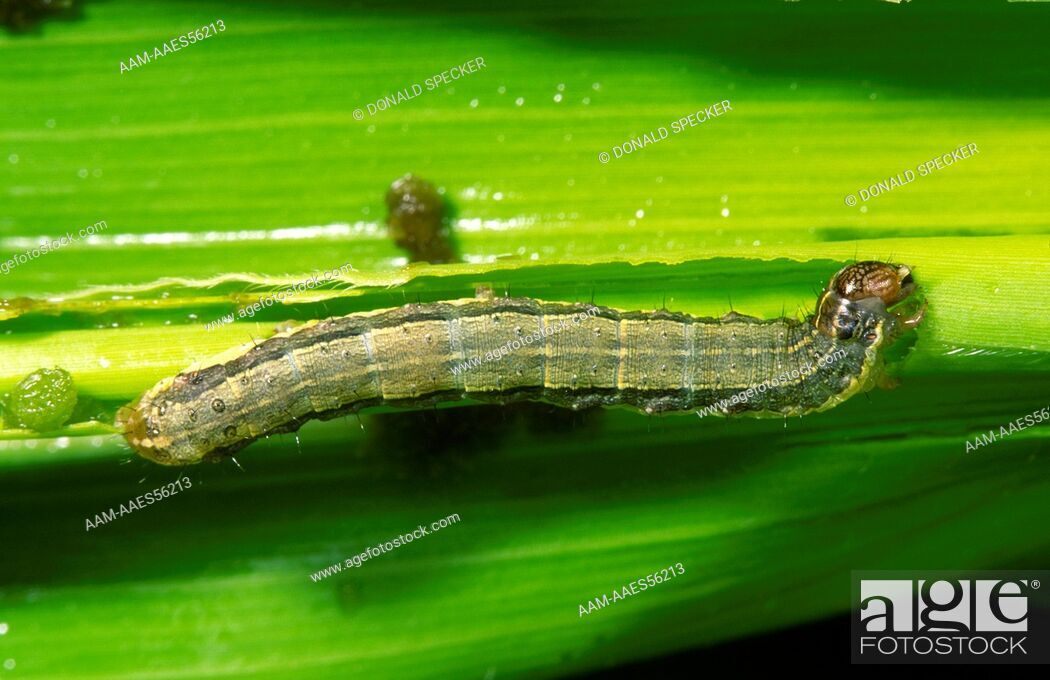Armyworm: (112, 255, 923, 492)
